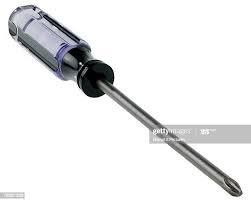screwdriver: (7, 4, 243, 197)
